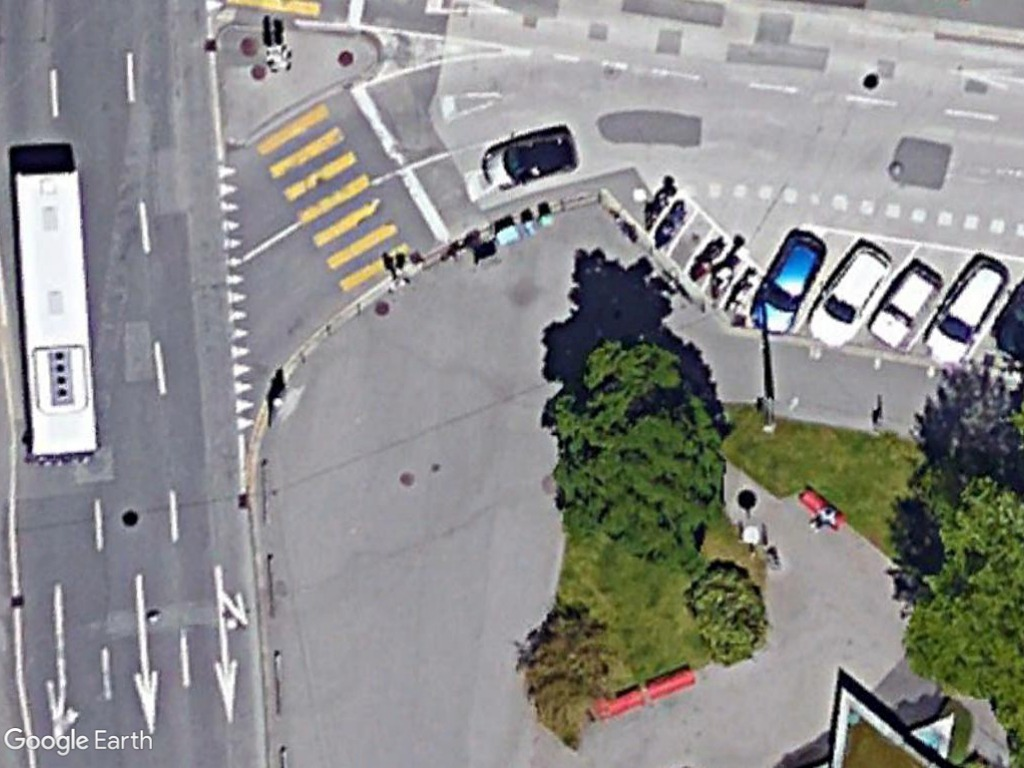bus: (5, 157, 102, 466)
car: (806, 231, 898, 351), (921, 261, 1009, 364), (746, 230, 828, 334), (865, 263, 942, 353)
